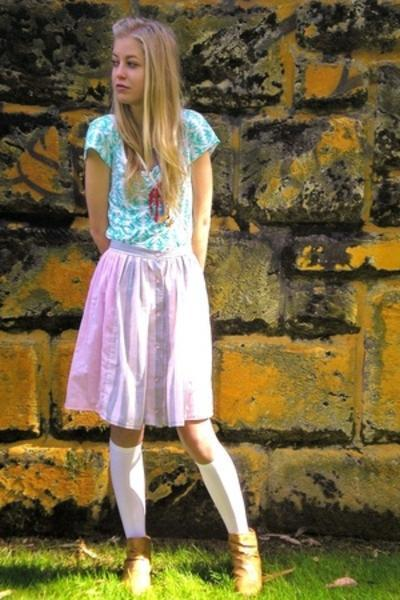shirt: (85, 110, 219, 268)
shoe: (122, 516, 259, 594)
skirt: (64, 248, 213, 443)
